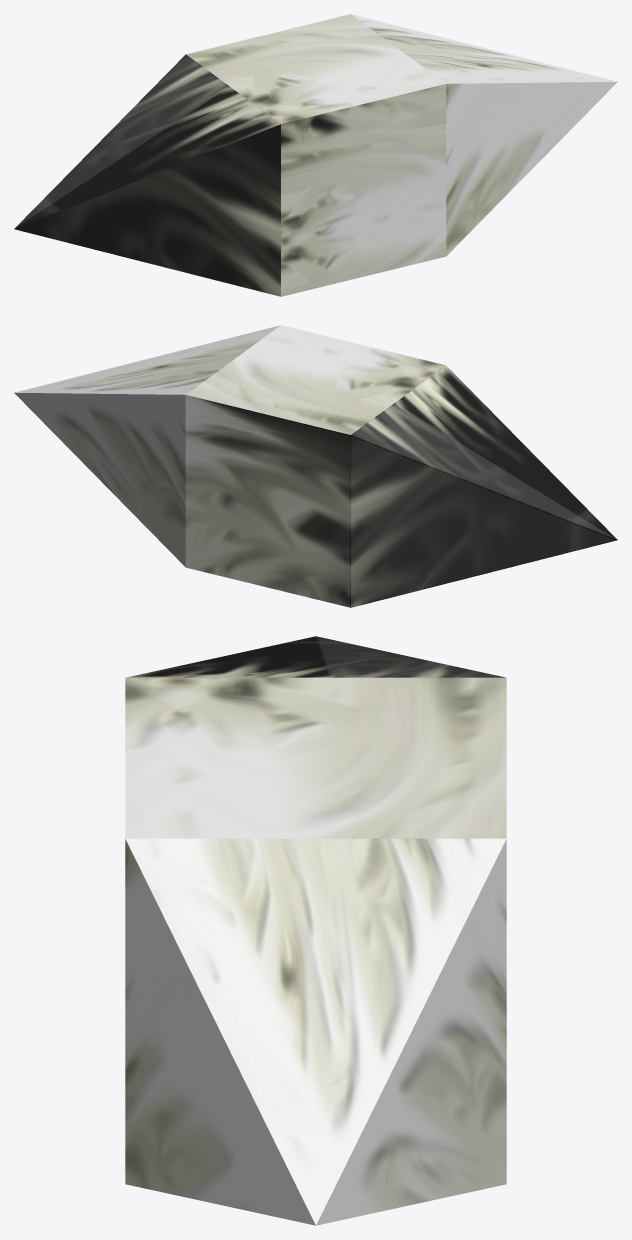
File: Bullet.fbx
The picture shows the model from 3 angles, top to bottom: view 1: azimuth 30°, elevation 25°; view 2: azimuth 150°, elevation 25°; view 3: azimuth 270°, elevation 25°; orthographic projection. The views are drawn at different scales.
Parts seen in each view (by area): view 1: Cube; view 2: Cube; view 3: Cube.
Boxes of the visible parts, x1=… form: Cube: x1=14, y1=14, x2=617, y2=296; Cube: x1=14, y1=325, x2=617, y2=607; Cube: x1=125, y1=636, x2=506, y2=1225.
Size of the model in its own units: 354 by 96.62 by 96.62.
